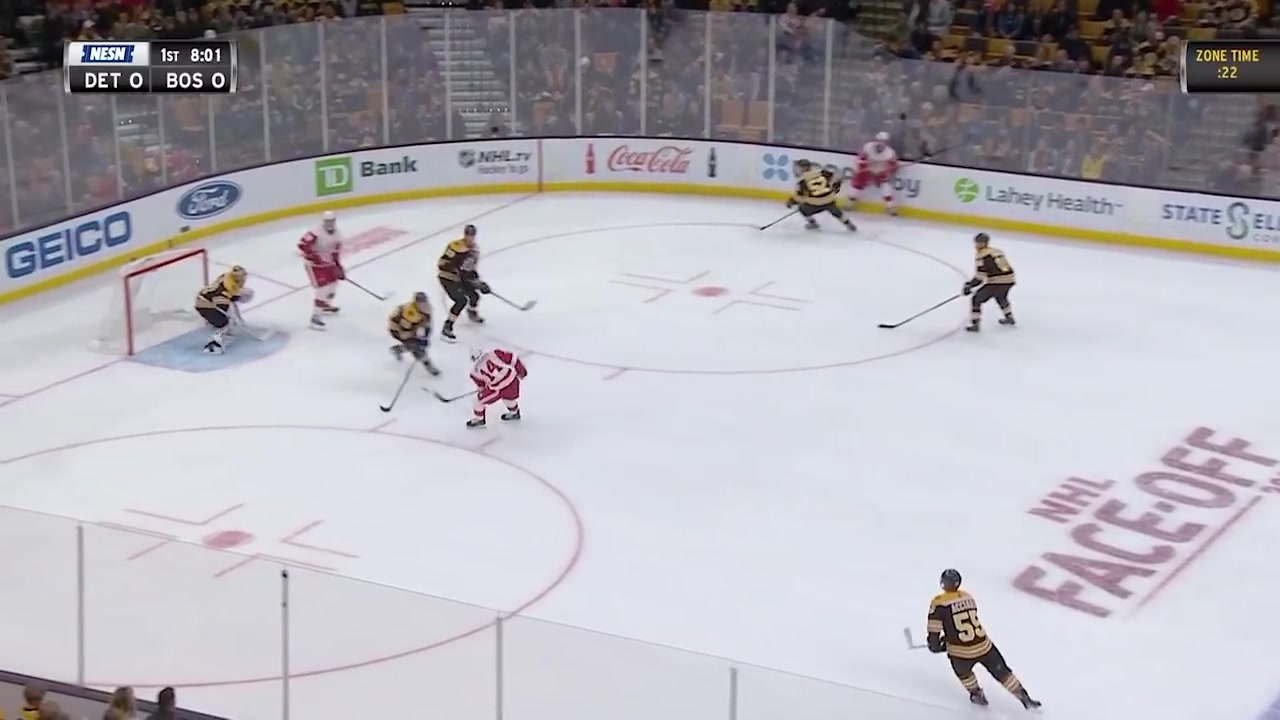Geico: (4, 194, 150, 295)
